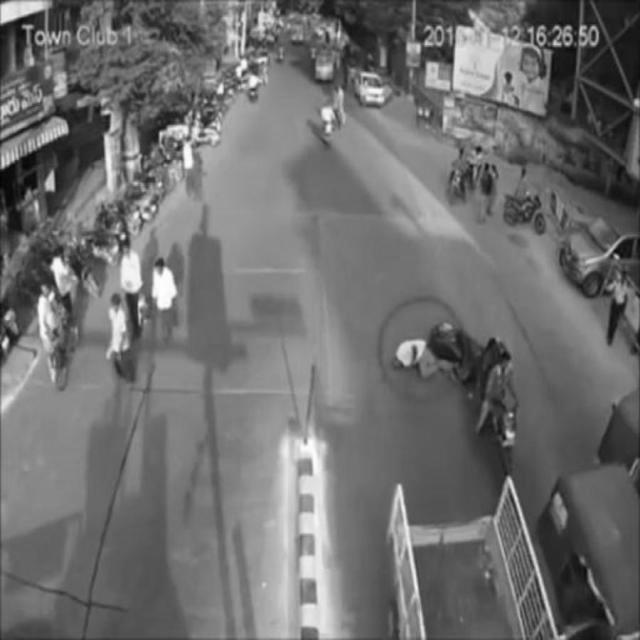person: (116, 239, 146, 343), (105, 293, 135, 386), (148, 259, 178, 352)
vehicle: (474, 337, 520, 487), (559, 216, 640, 296)
